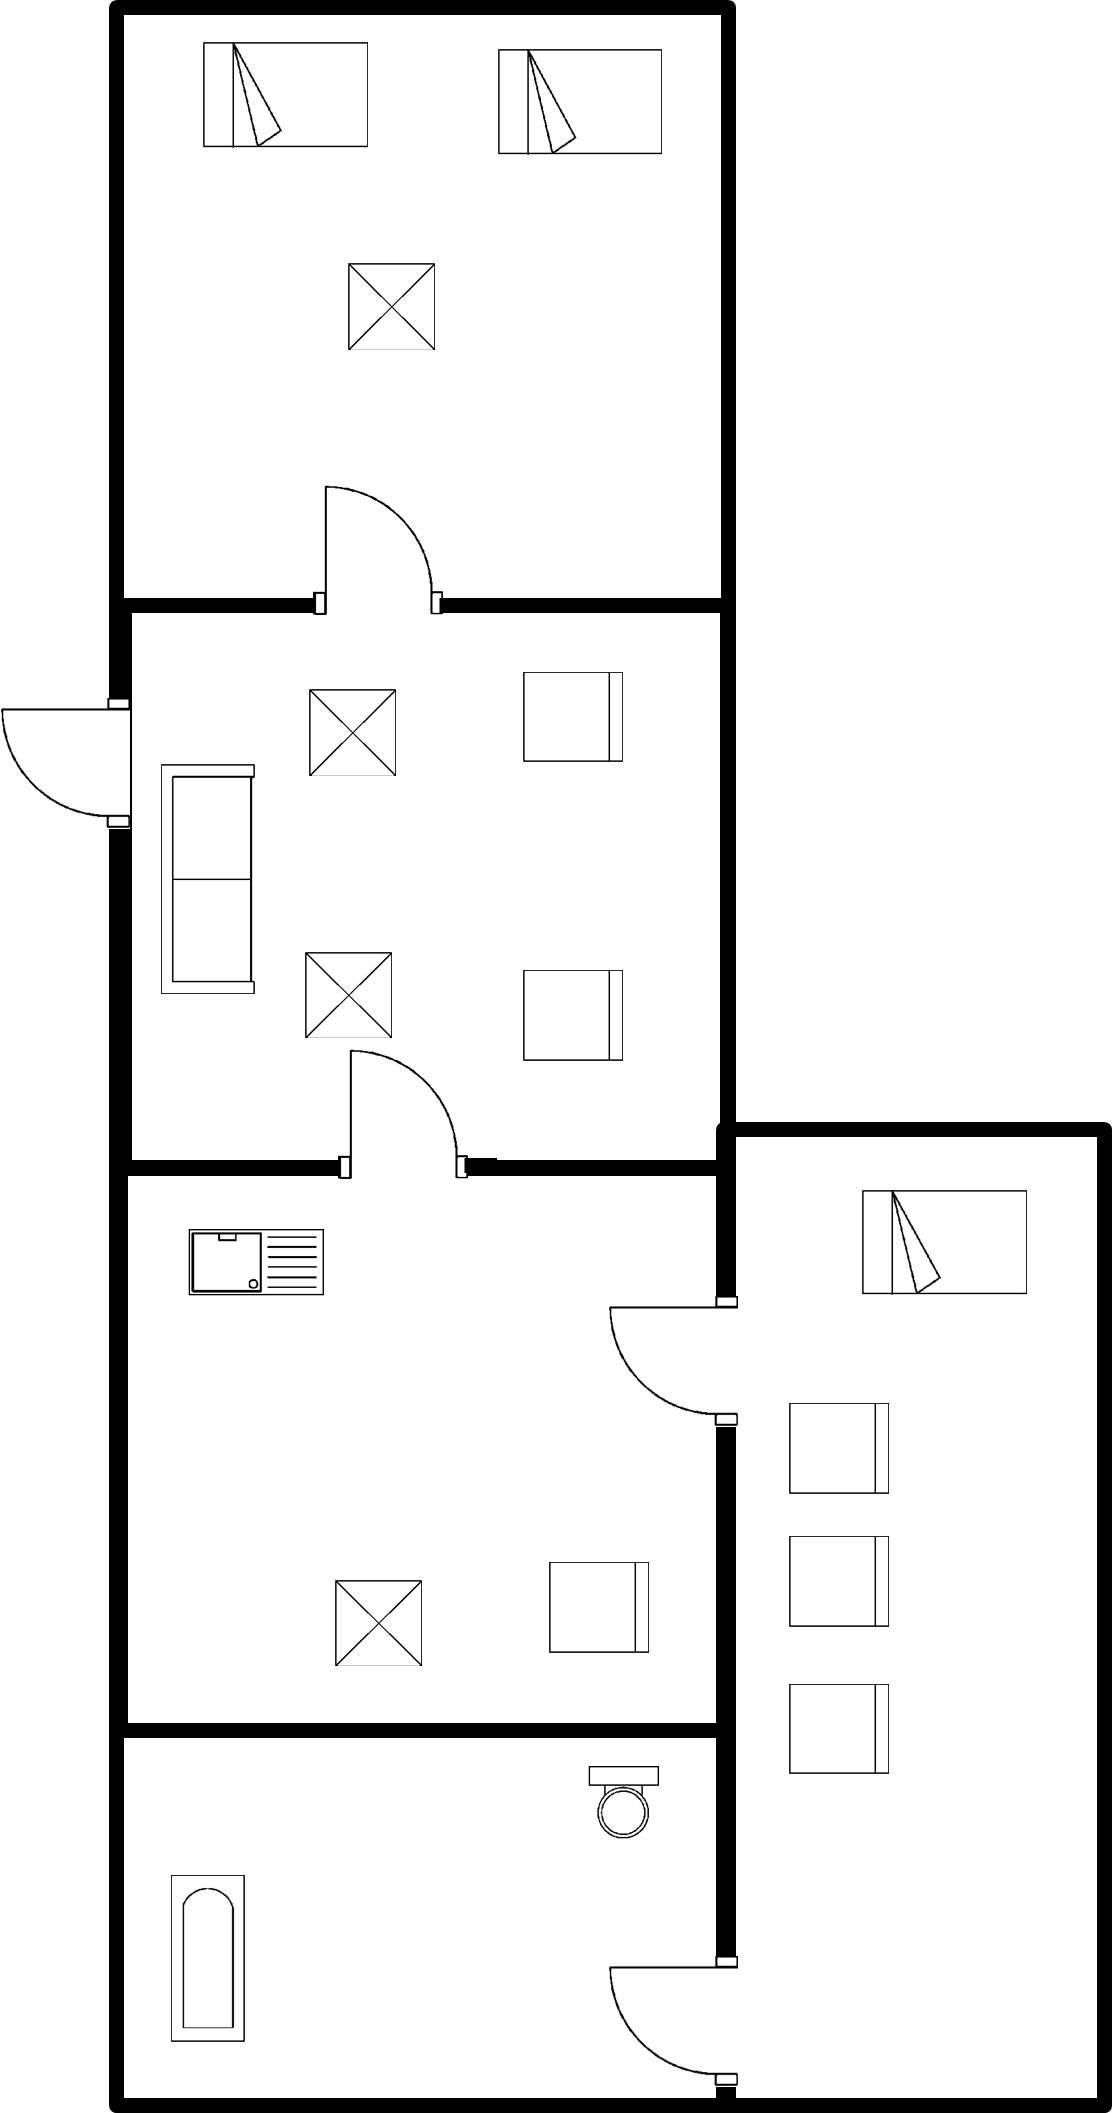bed: (184, 25, 388, 162), (853, 1177, 1040, 1312), (482, 39, 682, 164)
coffee_table: (328, 252, 459, 364), (317, 1564, 444, 1679), (297, 673, 415, 796), (290, 941, 419, 1052)
large_sink: (572, 1748, 676, 1858)
large_sofa: (147, 748, 274, 1010)
sink: (180, 1219, 332, 1316)
small_sofa: (507, 654, 640, 783), (534, 1544, 663, 1671), (776, 1385, 903, 1510), (507, 956, 638, 1077), (772, 1671, 905, 1791), (776, 1523, 909, 1641)
tub: (149, 1864, 261, 2054)
